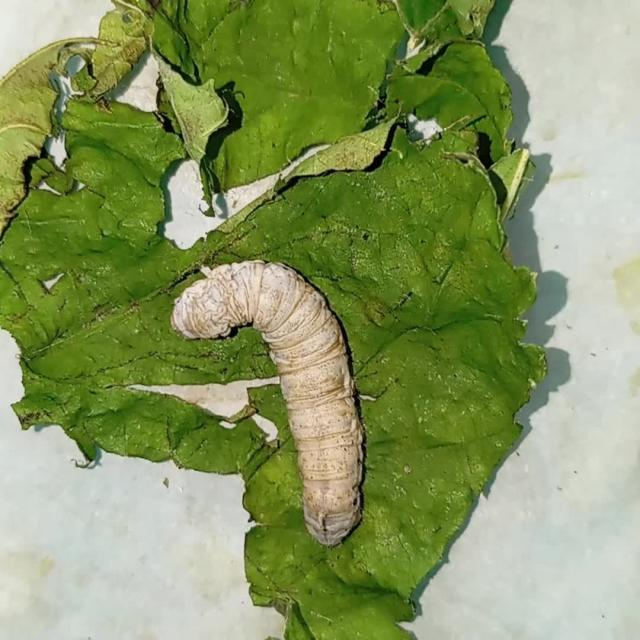Grasserie: (161, 249, 394, 549)
